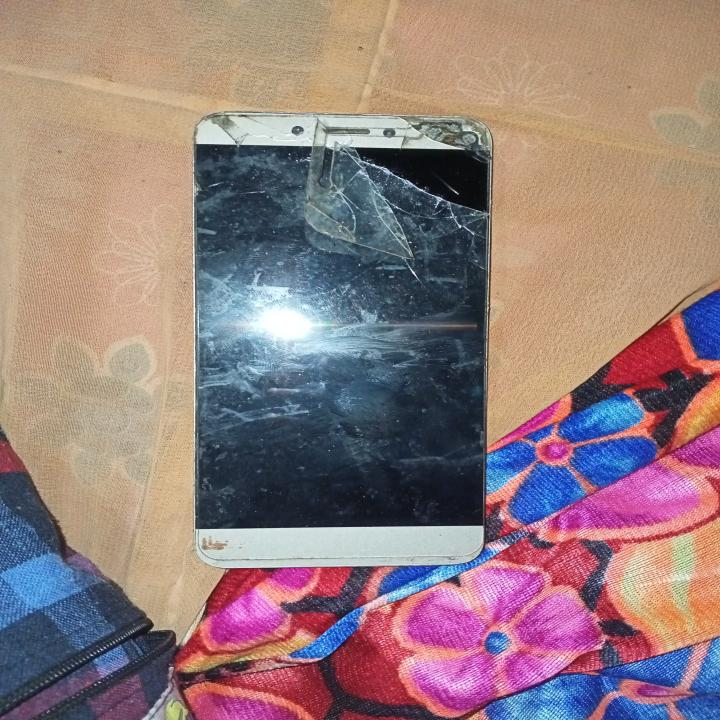Crack: (196, 120, 499, 278)
